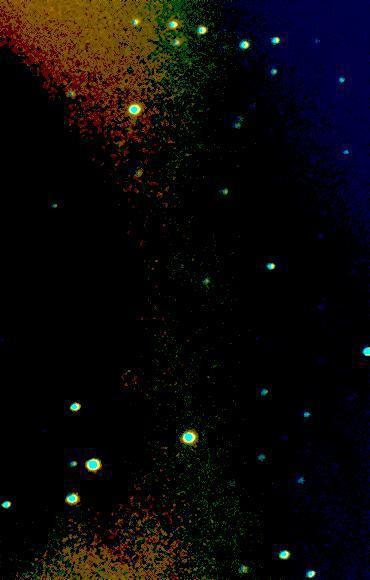star: (39, 460, 69, 490)
